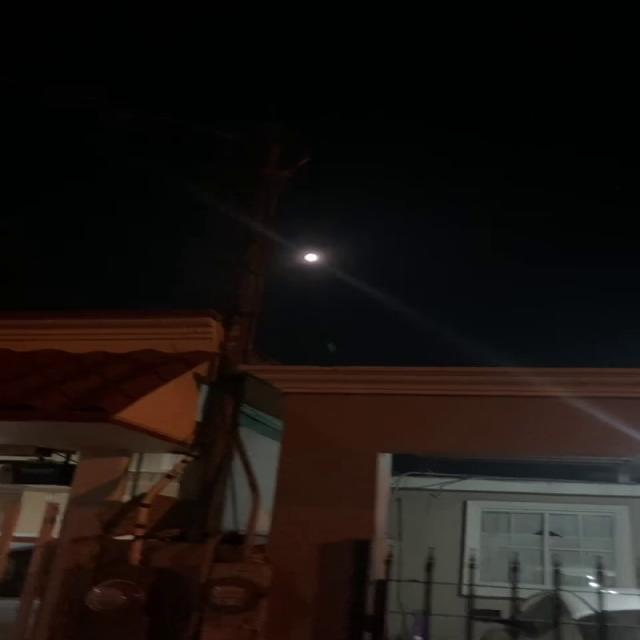moon: (292, 244, 325, 274)
